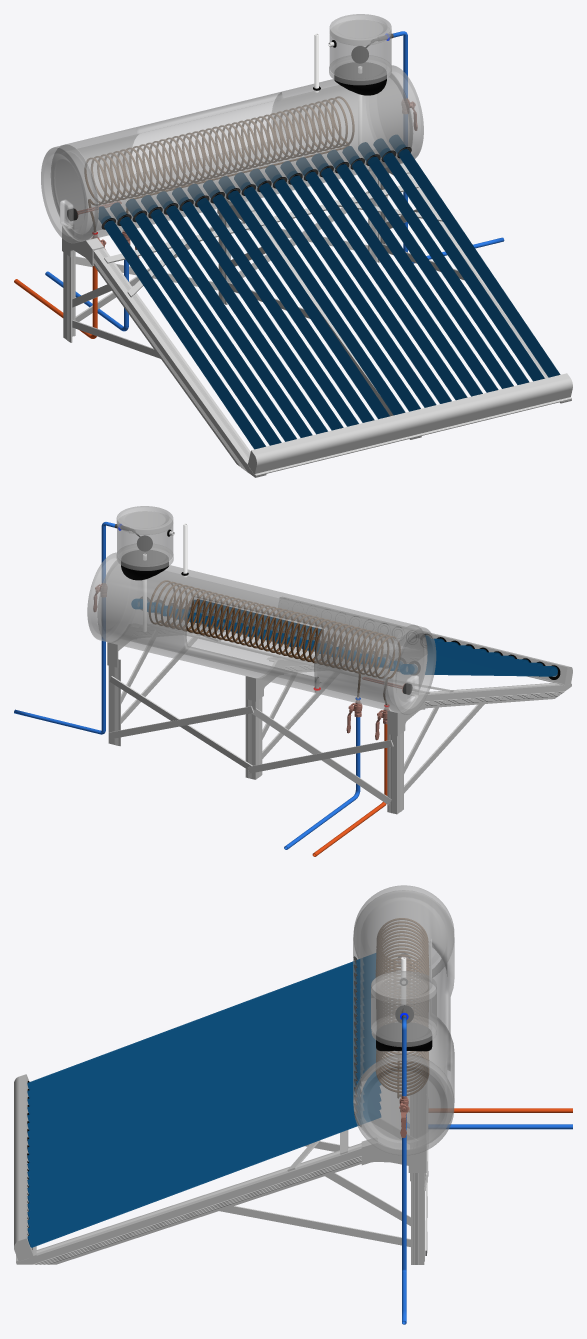
File: 240lts_high_pressure_solar_water_heater.glb
The picture shows the model from 3 angles, top to bottom: view 1: azimuth 30°, elevation 25°; view 2: azimuth 150°, elevation 25°; view 3: azimuth 270°, elevation 25°; orthographic projection. The views are drawn at different scales.
Parts seen in each view (by area): view 1: Cylinder.038_22, Cylinder.016_48, Spiral.001_64, Tube Holder_20, Cube.002_39, Cylinder.013_34, Cylinder.009_2, Cylinder.002_36, Cylinder.008_1, Cylinder.007_3, Torus.014_13, Stand.003_15 (+8 smaller); view 2: Cylinder.016_48, Spiral.001_64, Cylinder.038_22, Cylinder.013_34, Cylinder.002_36, Cylinder.009_2, Cube.002_39, Cylinder.008_1, Tube Holder_20, Stand.003_15, Plane_29, Cylinder.007_3 (+14 smaller); view 3: Cylinder.038_22, Cylinder.016_48, Cylinder.002_36, Cube.003_40, Cylinder.013_34, Cylinder.009_2, Spiral.001_64, Tube Holder_20, Cylinder.008_1, Stand.009_19, Cylinder.007_3, Plane_29 (+6 smaller).
Part boxes in pixels (x1=…): Cylinder.038_22: x1=98, y1=135, x2=560, y2=449; Cylinder.016_48: x1=51, y1=72, x2=413, y2=240; Spiral.001_64: x1=84, y1=96, x2=354, y2=232; Tube Holder_20: x1=246, y1=373, x2=572, y2=476; Cube.002_39: x1=93, y1=248, x2=266, y2=477; Cylinder.013_34: x1=41, y1=144, x2=98, y2=243; Cylinder.009_2: x1=329, y1=20, x2=391, y2=80; Cylinder.002_36: x1=369, y1=65, x2=423, y2=163; Cylinder.008_1: x1=329, y1=14, x2=391, y2=45; Cylinder.007_3: x1=329, y1=55, x2=391, y2=85; Torus.014_13: x1=101, y1=147, x2=411, y2=229; Stand.003_15: x1=63, y1=250, x2=75, y2=342; Cylinder.016_48: x1=97, y1=559, x2=427, y2=712; Spiral.001_64: x1=149, y1=580, x2=400, y2=704; Cylinder.038_22: x1=131, y1=599, x2=557, y2=676; Cylinder.013_34: x1=384, y1=625, x2=436, y2=714; Cylinder.002_36: x1=87, y1=552, x2=137, y2=642; Cylinder.009_2: x1=117, y1=511, x2=173, y2=566; Cube.002_39: x1=411, y1=683, x2=571, y2=708; Cylinder.008_1: x1=116, y1=506, x2=173, y2=534; Tube Holder_20: x1=280, y1=597, x2=572, y2=685; Stand.003_15: x1=387, y1=732, x2=403, y2=814; Plane_29: x1=14, y1=522, x2=115, y2=734; Cylinder.007_3: x1=116, y1=544, x2=173, y2=570; Cylinder.038_22: x1=27, y1=953, x2=380, y2=1247; Cylinder.016_48: x1=353, y1=890, x2=454, y2=1149; Cylinder.002_36: x1=353, y1=1054, x2=454, y2=1155; Cube.003_40: x1=16, y1=1143, x2=361, y2=1264; Cylinder.013_34: x1=354, y1=885, x2=454, y2=977; Cylinder.009_2: x1=371, y1=977, x2=436, y2=1041; Spiral.001_64: x1=376, y1=918, x2=428, y2=1098; Tube Holder_20: x1=14, y1=1074, x2=36, y2=1262; Cylinder.008_1: x1=371, y1=971, x2=436, y2=1004; Stand.009_19: x1=219, y1=1206, x2=410, y2=1246; Cylinder.007_3: x1=371, y1=1014, x2=436, y2=1046; Plane_29: x1=402, y1=1017, x2=406, y2=1324.
Bounding box in the file's own units: 169 × 92.96 × 175.
